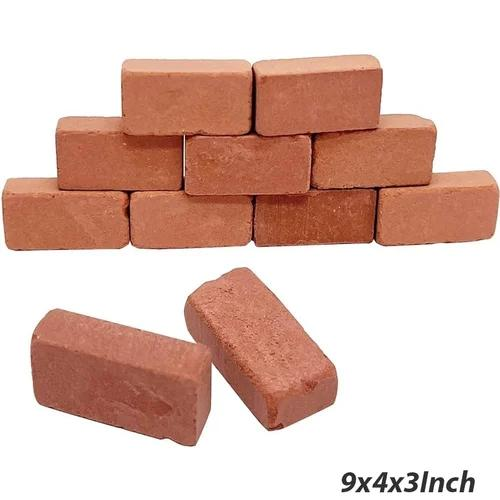brick: (194, 265, 334, 394), (31, 336, 197, 442), (121, 65, 251, 138), (255, 63, 381, 134), (315, 128, 438, 190), (185, 136, 310, 196), (5, 193, 131, 252), (376, 185, 499, 245), (58, 131, 183, 190), (131, 191, 251, 248), (255, 191, 375, 246)
